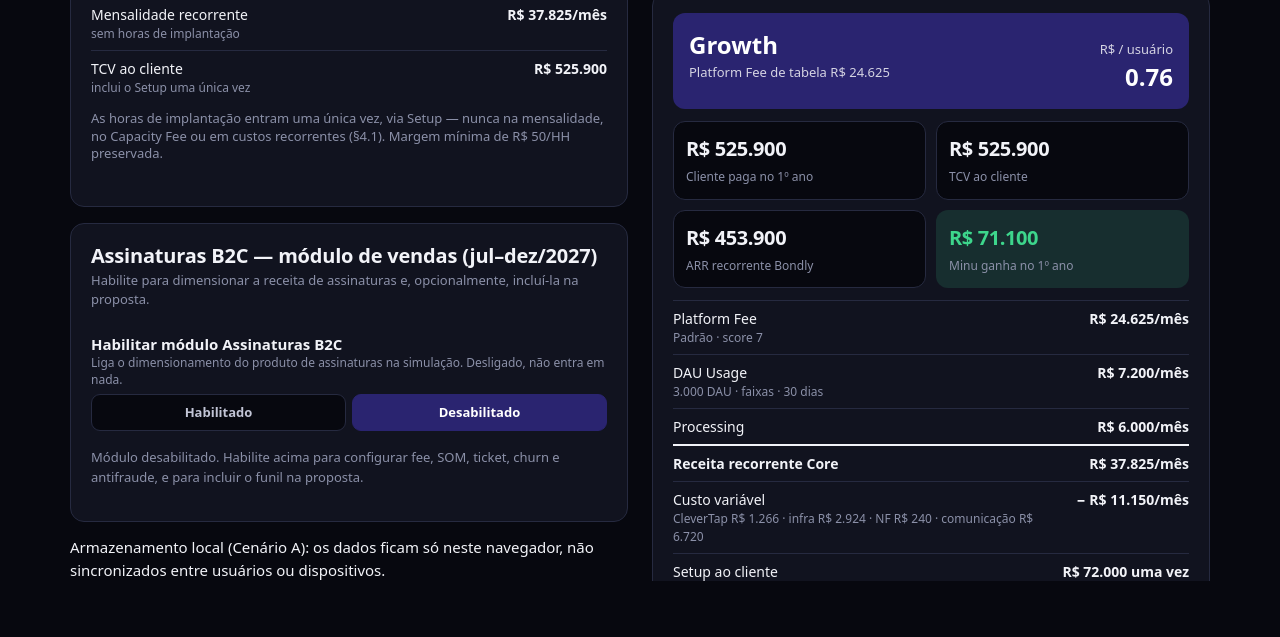
Scenario: App — ArkaPanel oculto em visão comercial (§12/§16) › indicador "Salvo automaticamente" aparece após uma mudança e não no boot
(page scrolled)
Expected: the text "Salvo automaticamente" is not shown
// uma mudança persistível (habilitar B2C) dispara o pulso
Click the button "Habilitado".
click(218, 413)  # box x1=91 y1=394 x2=346 y2=431
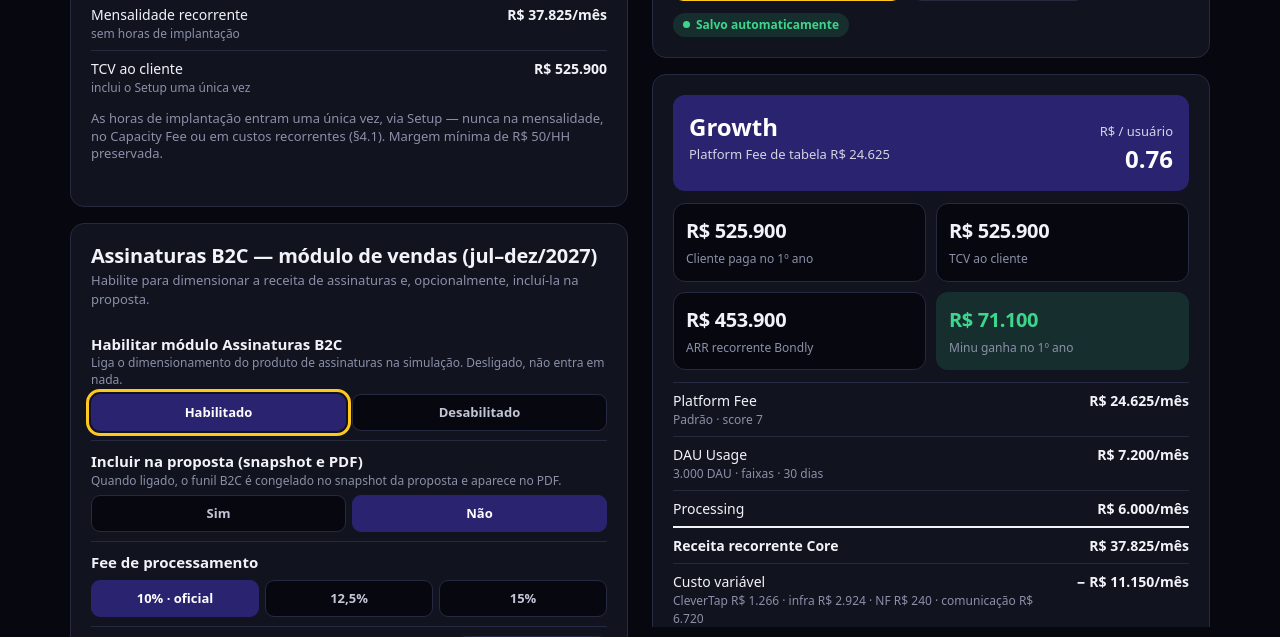
Now the text "Salvo automaticamente" is shown, box x1=673 y1=12 x2=849 y2=36
